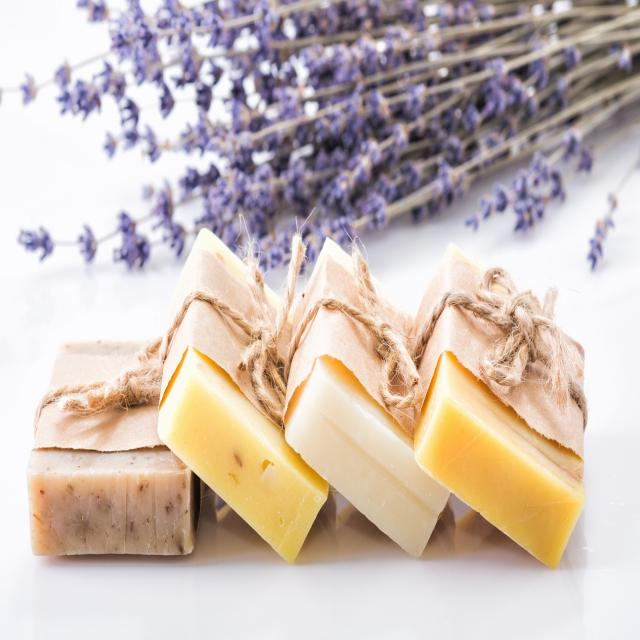soap: (410, 238, 593, 573), (279, 232, 456, 561), (22, 332, 202, 586)
